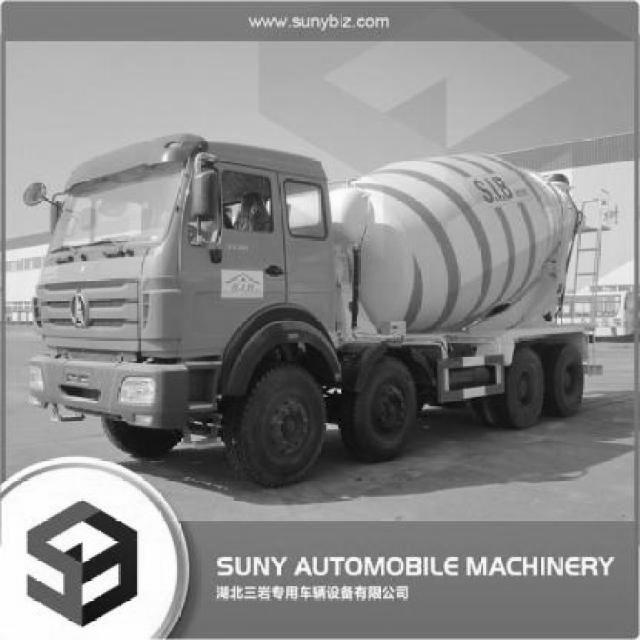Concrete Mixer: (23, 134, 587, 490)
